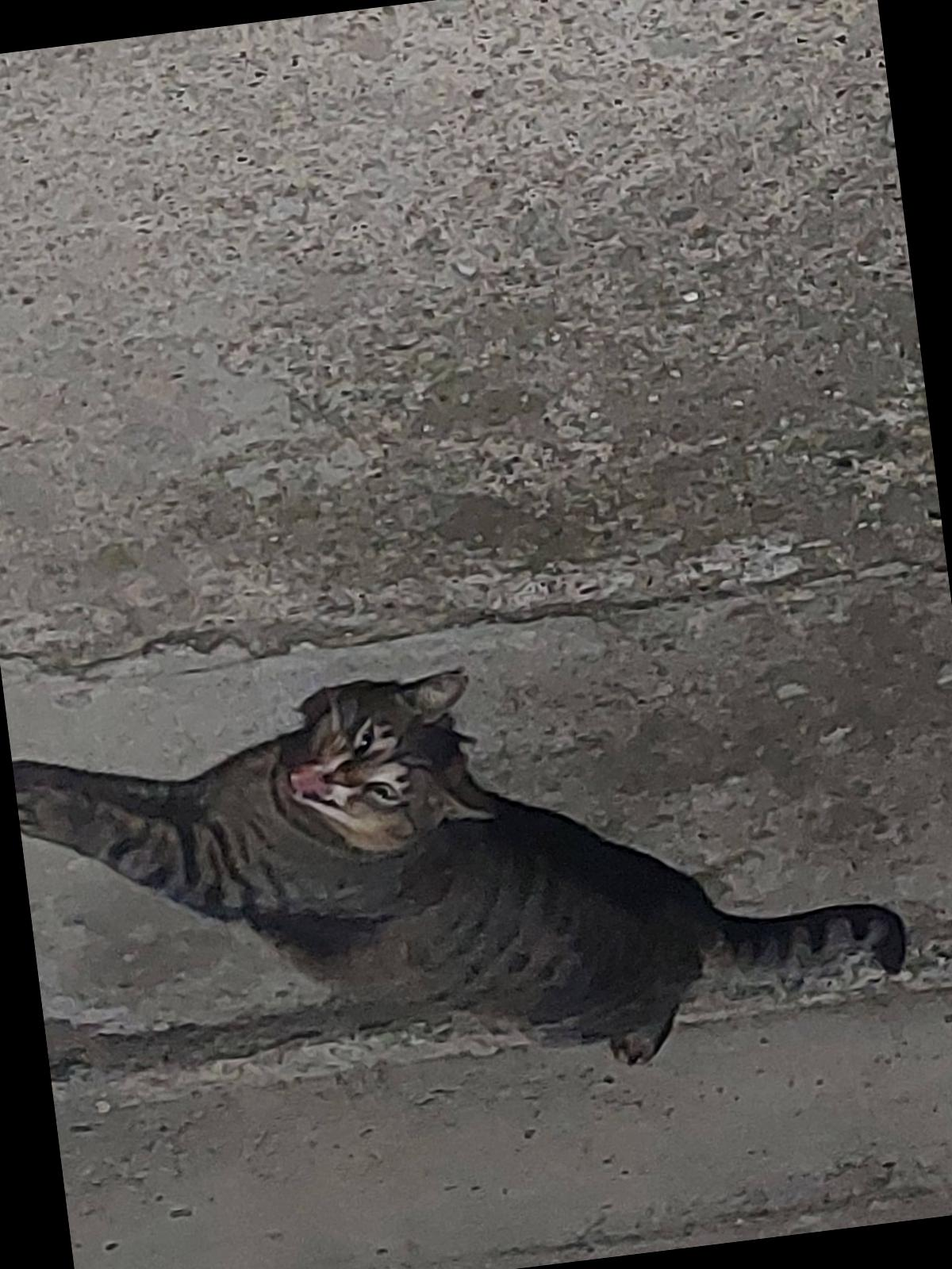macka: (8, 621, 917, 1139)
